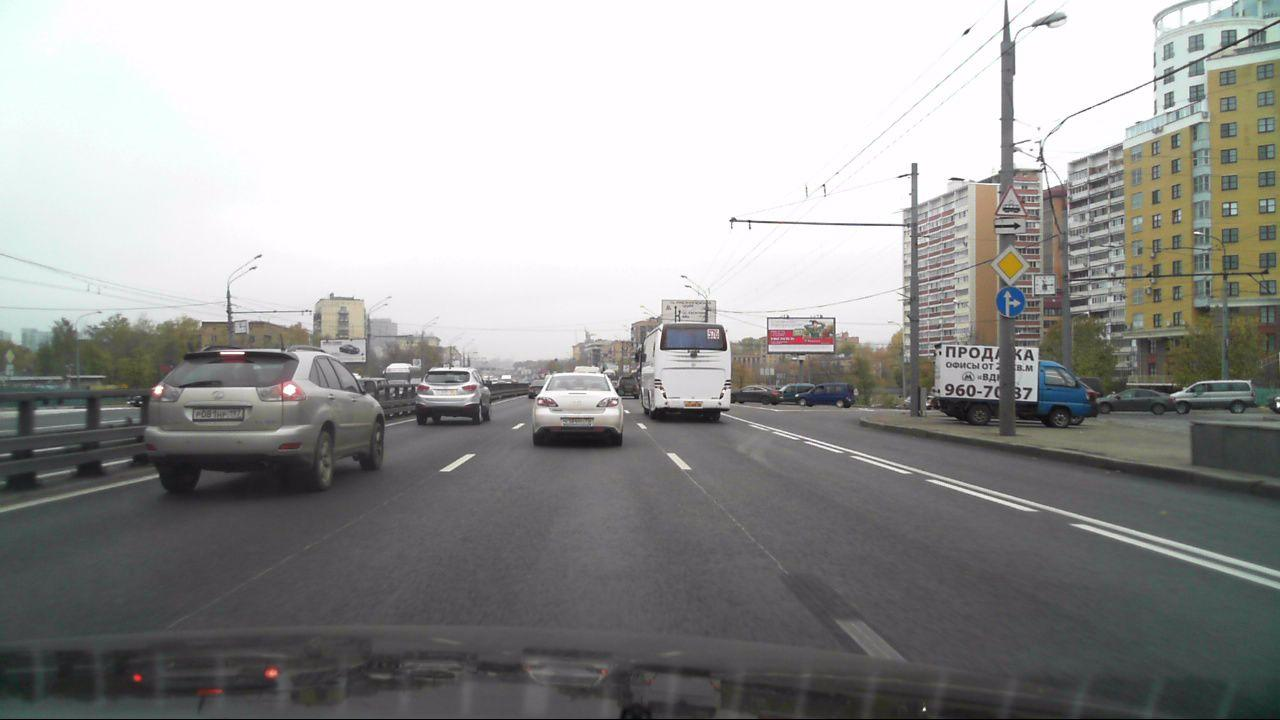1_5: (996, 184, 1025, 216)
2_1: (991, 243, 1030, 284)
4_1_4: (993, 284, 1026, 319)
8_3_1: (993, 218, 1028, 233)
